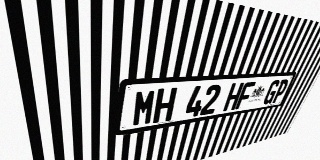2: (199, 84, 223, 116)
4: (184, 85, 208, 118)
F: (235, 82, 256, 110)
G: (262, 80, 281, 105)
H: (152, 87, 177, 124), (222, 82, 244, 112)
M: (132, 89, 157, 127)
P: (271, 79, 290, 103)
